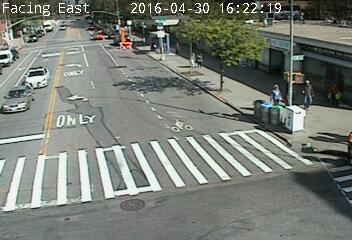neg: (119, 25, 130, 39), (58, 84, 67, 97), (211, 111, 218, 121)
pos: (297, 78, 318, 105), (326, 80, 343, 104), (269, 82, 282, 100), (171, 41, 183, 56), (195, 51, 206, 66), (186, 52, 197, 67)
